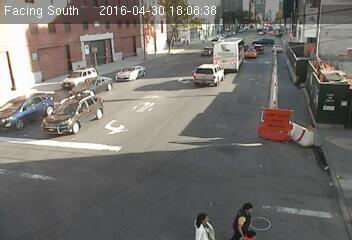neg: (209, 61, 229, 88), (252, 52, 272, 78), (155, 58, 165, 72)
pos: (228, 200, 255, 235), (188, 204, 213, 238), (243, 222, 256, 239)
